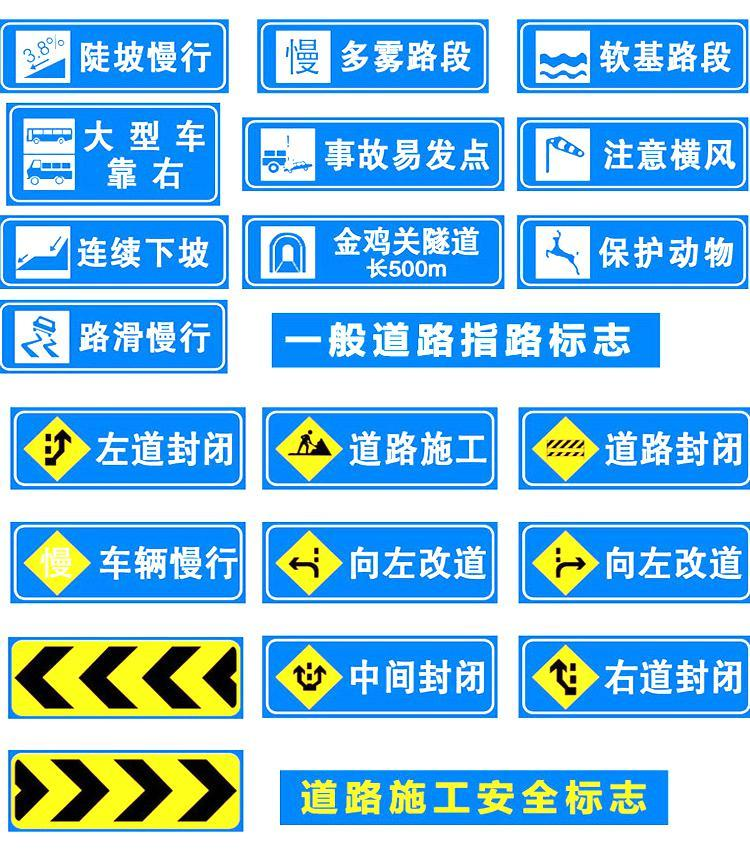sign: (10, 636, 243, 721), (16, 410, 247, 493), (523, 407, 750, 491), (14, 521, 242, 604), (265, 640, 495, 720), (521, 637, 749, 717), (268, 406, 493, 487), (9, 753, 240, 831), (266, 523, 494, 602), (522, 522, 747, 599)
